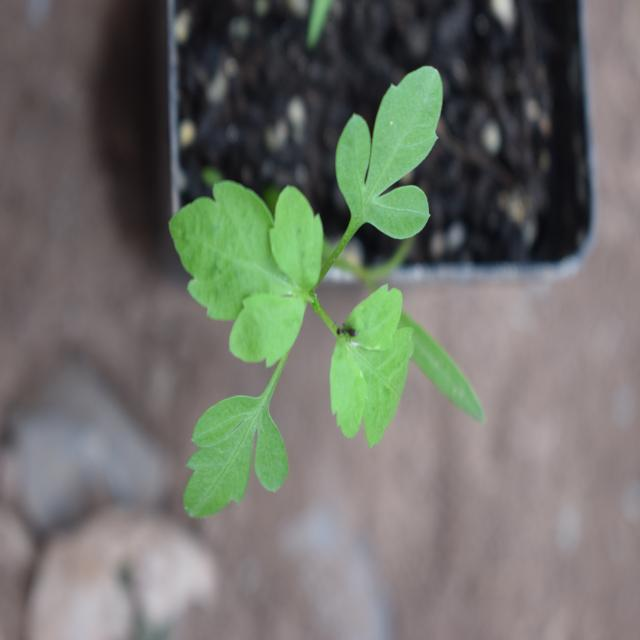Bidens pilosa: (145, 24, 486, 540)
